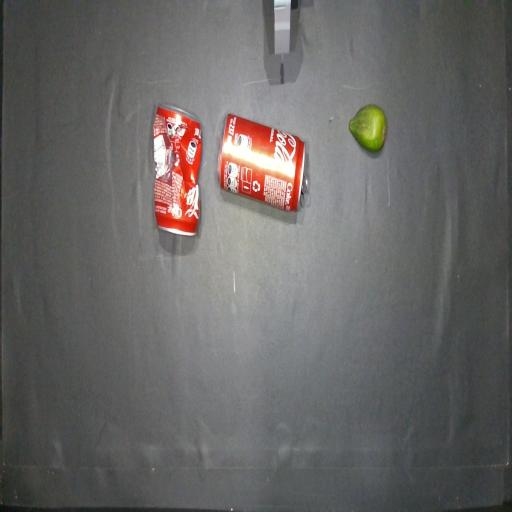higo: (349, 105, 387, 152)
lata: (218, 114, 308, 211)
lata_defectuoso: (153, 105, 202, 235)
